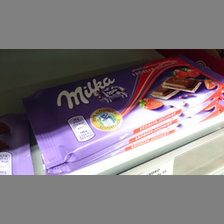chocolate: (26, 59, 223, 158)
